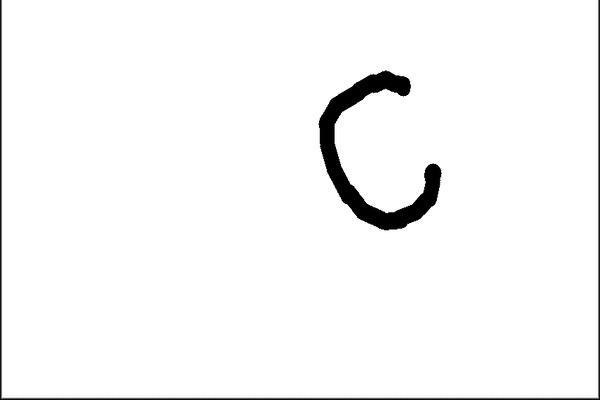C: (312, 68, 445, 233)
